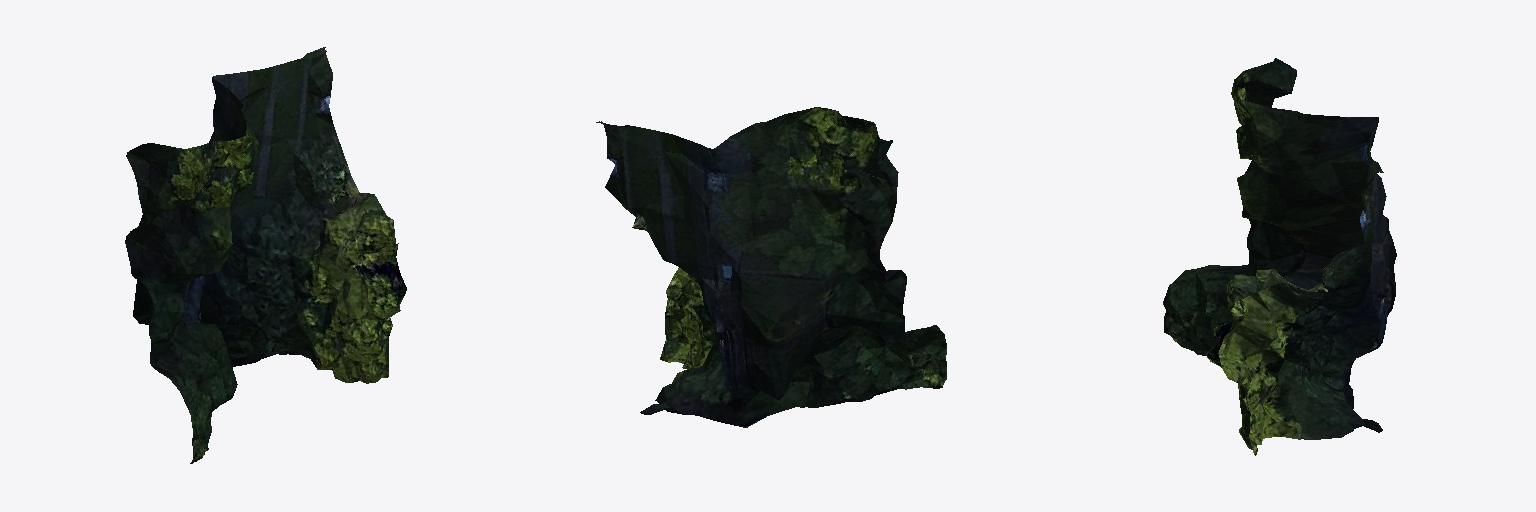
3 renders of one model, left to right at view 1: azimuth 30°, elevation 25°; view 2: azimuth 150°, elevation 25°; view 3: azimuth 270°, elevation 25°, orthographic.
Visible parts, largest first — view 1: obj_0; view 2: obj_0; view 3: obj_0.
Part boxes in pixels (left/top/right/bottom): obj_0: left=125, top=47, right=406, bottom=463; obj_0: left=596, top=107, right=946, bottom=427; obj_0: left=1163, top=58, right=1396, bottom=455.
Bounding box in the file's own units: 20.12 × 22.53 × 16.84.
Materials: 1 (1 with a texture image).